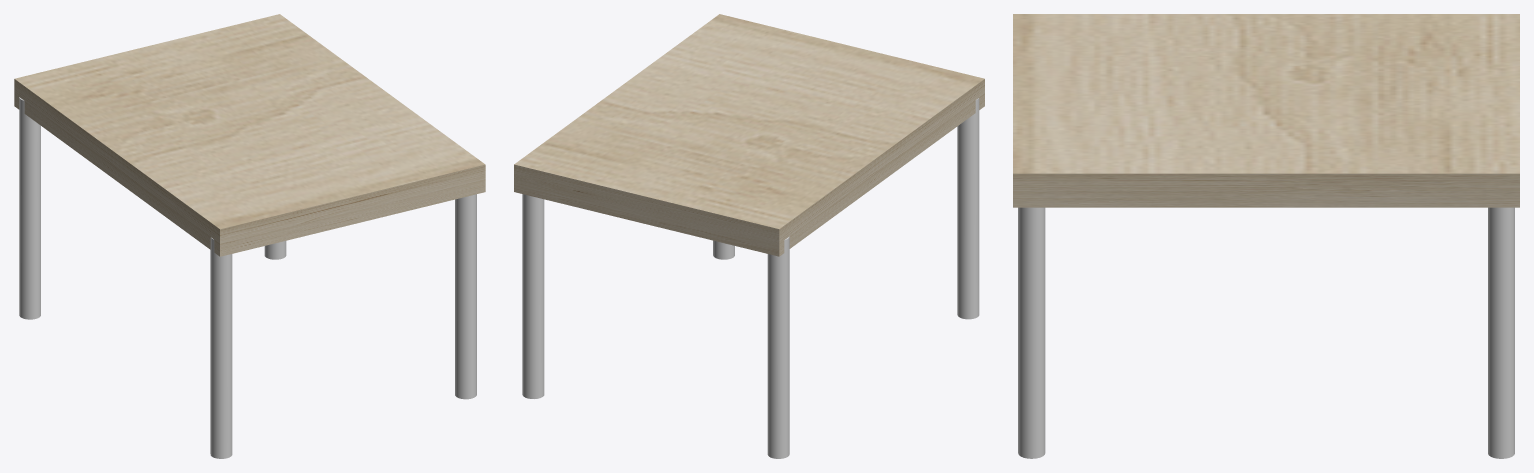
The model's file is desk_mesh2.fbx.
3 views of the same model, side by side, from view 1: azimuth 30°, elevation 25°; view 2: azimuth 150°, elevation 25°; view 3: azimuth 270°, elevation 25° (orthographic). The views are drawn at different scales.
Visible parts, largest first — view 1: polySurface64; view 2: polySurface64; view 3: polySurface64.
Part boxes in pixels (left/top/right/bottom): polySurface64: left=14, top=14, right=485, bottom=458; polySurface64: left=514, top=14, right=984, bottom=458; polySurface64: left=1013, top=14, right=1519, bottom=458.
Bounding box in the file's own units: 4.59 × 3.83 × 6.13.
2 materials, 1 textured.
